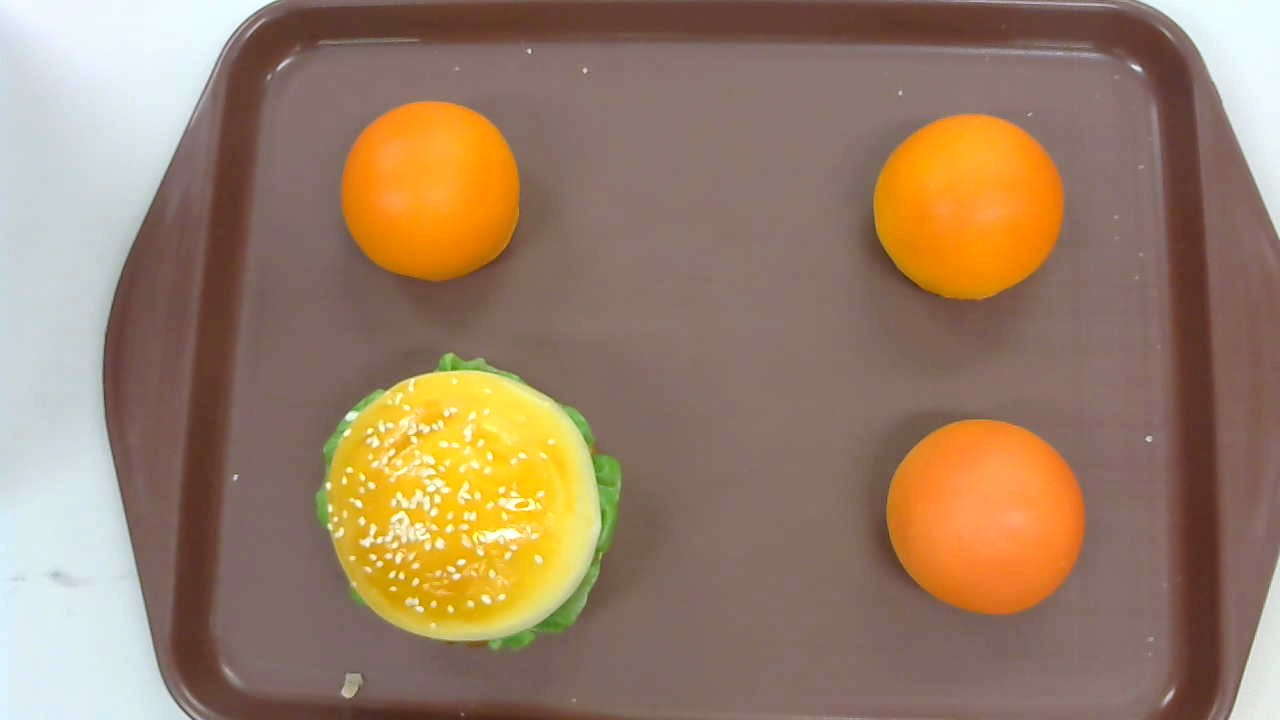bun: (885, 416, 1084, 614), (874, 113, 1064, 302), (341, 100, 522, 281)
hamburger: (316, 353, 622, 651)
